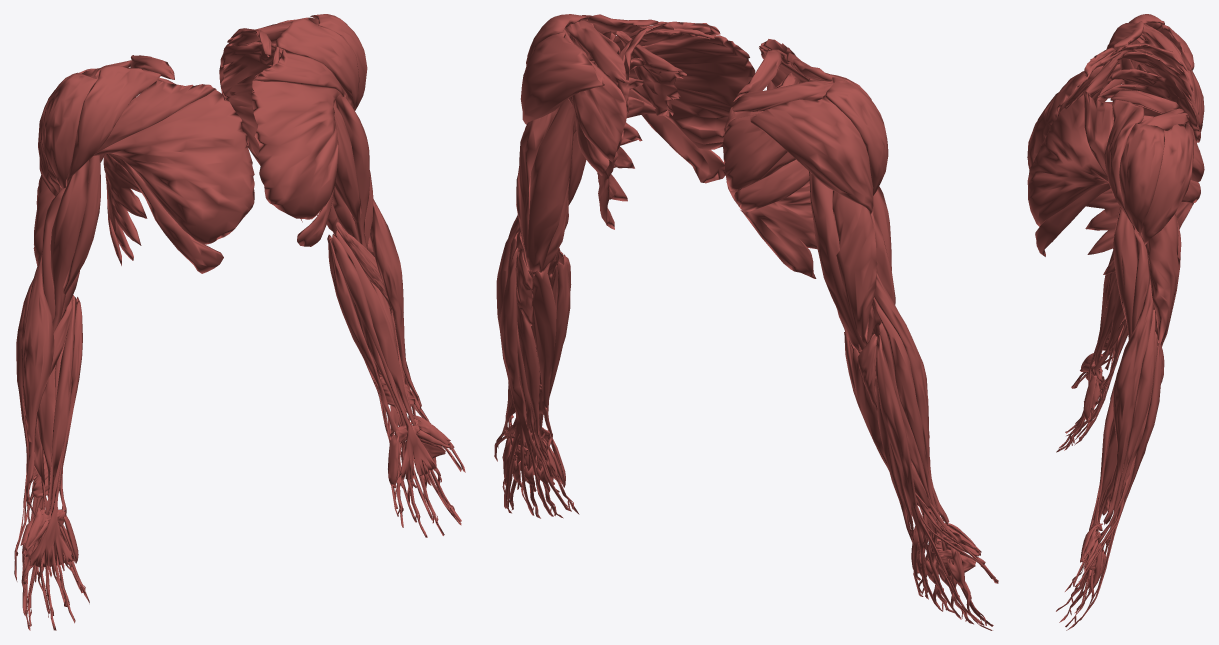
Rendered from upper-limbs.glb.
3 renders of one model, left to right at view 1: azimuth 30°, elevation 25°; view 2: azimuth 150°, elevation 25°; view 3: azimuth 270°, elevation 25°, orthographic. The views are drawn at different scales.
Parts seen in each view (by area): view 1: FMA79979, FMA79980, FMA38486, FMA34680, FMA13399, FMA34682, FMA13398, FMA34681, FMA37686, FMA34690, FMA38464, FMA38487 (+21 smaller); view 2: FMA79980, FMA34684, FMA13398, FMA37700, FMA34685, FMA37697, FMA38501, FMA38502, FMA32548, FMA32547, FMA37699, FMA13399 (+29 smaller); view 3: FMA79980, FMA13398, FMA38487, FMA34683, FMA34685, FMA37698, FMA13399, FMA37687, FMA34681, FMA79979, FMA38496, FMA34691 (+26 smaller).
Boxes of the visible parts, bbox=[...] form: FMA79979: bbox=[93, 90, 254, 244]; FMA79980: bbox=[251, 80, 340, 219]; FMA38486: bbox=[21, 250, 54, 505]; FMA34680: bbox=[66, 65, 161, 186]; FMA13399: bbox=[220, 28, 317, 222]; FMA34682: bbox=[42, 72, 97, 188]; FMA13398: bbox=[103, 55, 174, 265]; FMA34681: bbox=[275, 18, 359, 108]; FMA37686: bbox=[50, 160, 89, 332]; FMA34690: bbox=[94, 80, 216, 154]; FMA38464: bbox=[332, 233, 436, 483]; FMA38487: bbox=[370, 199, 421, 410]; FMA79980: bbox=[590, 35, 755, 149]; FMA34684: bbox=[749, 95, 873, 214]; FMA13398: bbox=[724, 49, 817, 278]; FMA37700: bbox=[526, 99, 575, 271]; FMA34685: bbox=[520, 32, 604, 124]; FMA37697: bbox=[832, 190, 877, 351]; FMA38501: bbox=[876, 335, 984, 625]; FMA38502: bbox=[500, 246, 571, 516]; FMA32548: bbox=[558, 29, 626, 161]; FMA32547: bbox=[723, 113, 787, 190]; FMA37699: bbox=[809, 171, 865, 351]; FMA13399: bbox=[597, 23, 673, 229]; FMA79980: bbox=[1027, 95, 1108, 226]; FMA13398: bbox=[1097, 43, 1199, 141]; FMA38487: bbox=[1103, 276, 1153, 524]; FMA34683: bbox=[1119, 123, 1164, 233]; FMA34685: bbox=[1141, 124, 1193, 244]; FMA37698: bbox=[1147, 213, 1179, 347]; FMA13399: bbox=[1085, 89, 1193, 274]; FMA37687: bbox=[1113, 143, 1137, 339]; FMA34681: bbox=[1104, 99, 1144, 230]; FMA79979: bbox=[1027, 63, 1120, 169]; FMA38496: bbox=[1106, 309, 1155, 544]; FMA34691: bbox=[1084, 91, 1113, 175].
Bounding box in the file's own units: 0.6382 × 0.6896 × 0.2357.
